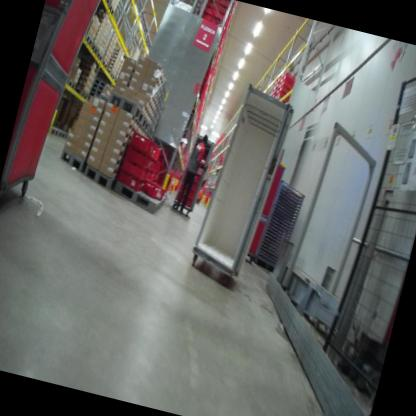pallet: (109, 175, 173, 219), (106, 91, 147, 127), (79, 162, 120, 195), (56, 150, 87, 176), (137, 113, 151, 133), (47, 120, 62, 137), (86, 42, 100, 59), (64, 77, 77, 95), (81, 33, 95, 49), (91, 76, 107, 89), (87, 85, 100, 101), (93, 50, 106, 66), (77, 88, 91, 101), (56, 128, 68, 142), (104, 71, 118, 83), (146, 126, 156, 141), (99, 59, 109, 73), (91, 81, 106, 89), (100, 0, 112, 10), (108, 2, 117, 14), (113, 79, 118, 87)
small_load_carrier: (110, 159, 152, 195), (116, 152, 153, 187), (124, 132, 162, 163), (123, 146, 156, 170), (142, 174, 165, 200), (182, 157, 205, 177), (209, 14, 229, 36), (215, 2, 234, 25), (280, 71, 299, 90), (173, 192, 193, 208), (274, 84, 292, 101), (180, 178, 200, 193), (277, 80, 297, 94), (176, 184, 197, 197), (183, 168, 201, 181), (199, 12, 213, 25), (206, 0, 220, 13), (275, 94, 290, 106), (201, 4, 216, 16), (273, 74, 283, 87), (271, 86, 280, 97), (271, 83, 278, 91), (270, 92, 276, 101)
